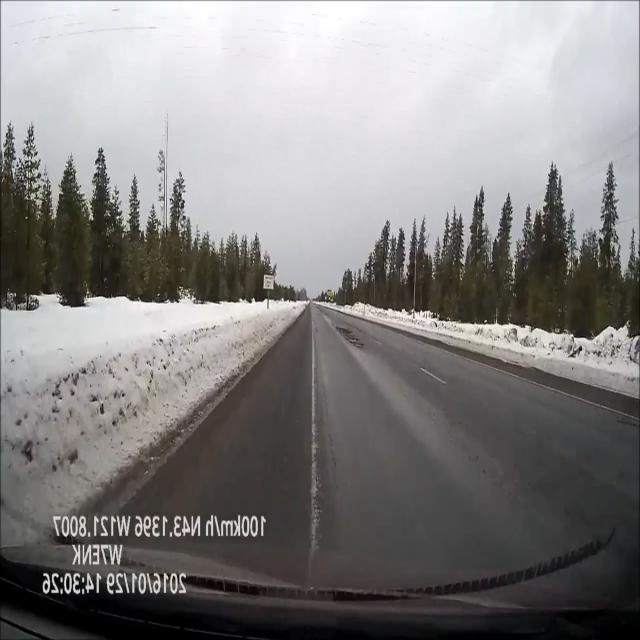pothole: (330, 327, 369, 350)
